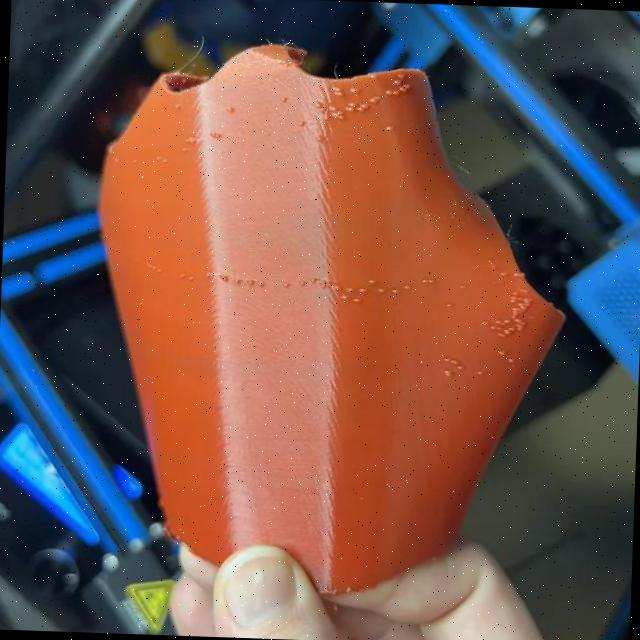blobs: (328, 84, 346, 99), (382, 120, 398, 133), (334, 108, 348, 122), (508, 305, 522, 319), (184, 132, 200, 144), (419, 276, 438, 286), (372, 284, 385, 298), (344, 84, 359, 96), (400, 80, 410, 97), (346, 100, 358, 114), (223, 104, 238, 115), (208, 129, 223, 140), (292, 115, 307, 126), (368, 94, 382, 105), (507, 290, 519, 302), (356, 103, 369, 114), (219, 273, 232, 284), (348, 294, 362, 304), (326, 102, 338, 113), (507, 354, 518, 366), (387, 286, 400, 296), (511, 268, 524, 278), (441, 368, 454, 378), (313, 98, 324, 109), (342, 286, 355, 295), (455, 281, 467, 290), (476, 368, 488, 377), (518, 287, 530, 296), (338, 292, 348, 302), (246, 278, 256, 288), (490, 262, 500, 272), (450, 357, 460, 367), (279, 95, 290, 104), (442, 353, 451, 364), (282, 281, 294, 289), (390, 90, 400, 99), (298, 279, 308, 288), (232, 276, 242, 285), (496, 349, 506, 358), (367, 278, 378, 286), (357, 286, 368, 294), (392, 77, 401, 86), (445, 300, 454, 309), (515, 319, 524, 328), (480, 318, 488, 328), (402, 283, 412, 290), (310, 276, 320, 283), (502, 318, 512, 325), (257, 280, 265, 288), (384, 88, 391, 96), (500, 271, 508, 278), (472, 261, 478, 270), (498, 332, 507, 338), (495, 318, 500, 324)
